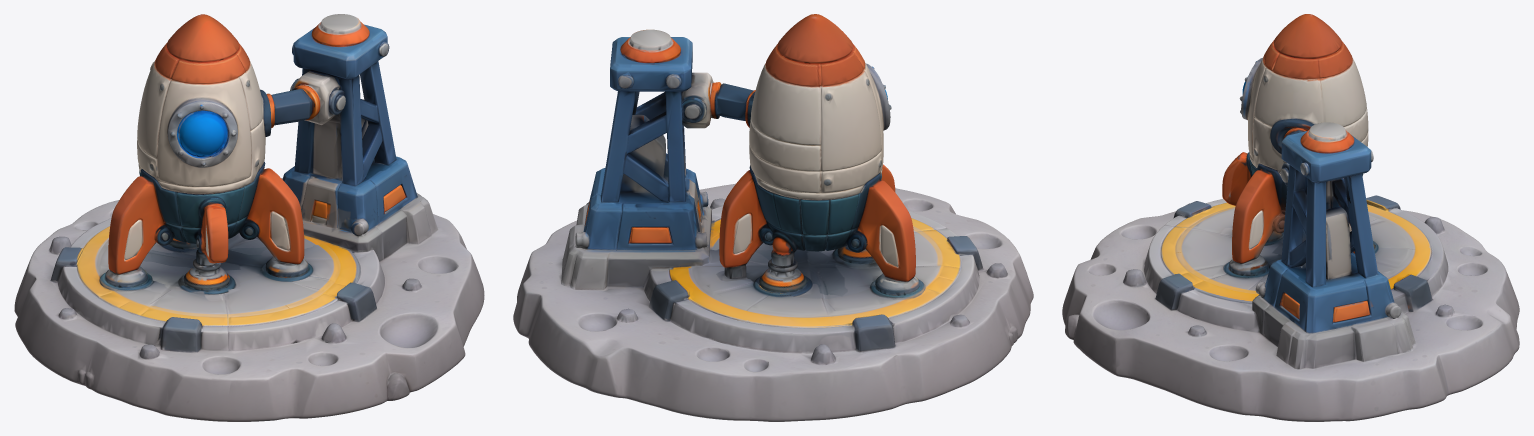
Rendered from rocket-launch-pad.glb.
3 renders of one model, left to right at view 1: azimuth 30°, elevation 25°; view 2: azimuth 150°, elevation 25°; view 3: azimuth 270°, elevation 25°, orthographic. The views are drawn at different scales.
Parts seen in each view (by area): view 1: node_0; view 2: node_0; view 3: node_0.
Part boxes in pixels (bbox=[...]): node_0: bbox=[14, 14, 484, 421]; node_0: bbox=[513, 14, 1033, 421]; node_0: bbox=[1062, 14, 1519, 421].
Bounding box in the file's own units: 0.9733 × 0.6709 × 0.9632.
Materials: 1 (1 with a texture image).
